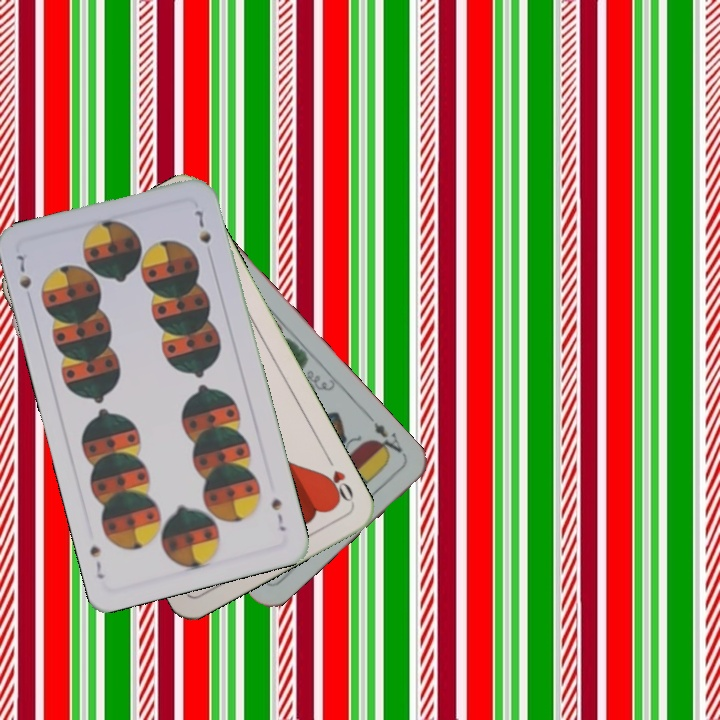EA: (365, 410, 405, 461)
HO: (319, 451, 356, 506)
S7: (12, 248, 34, 292), (267, 494, 289, 534)
